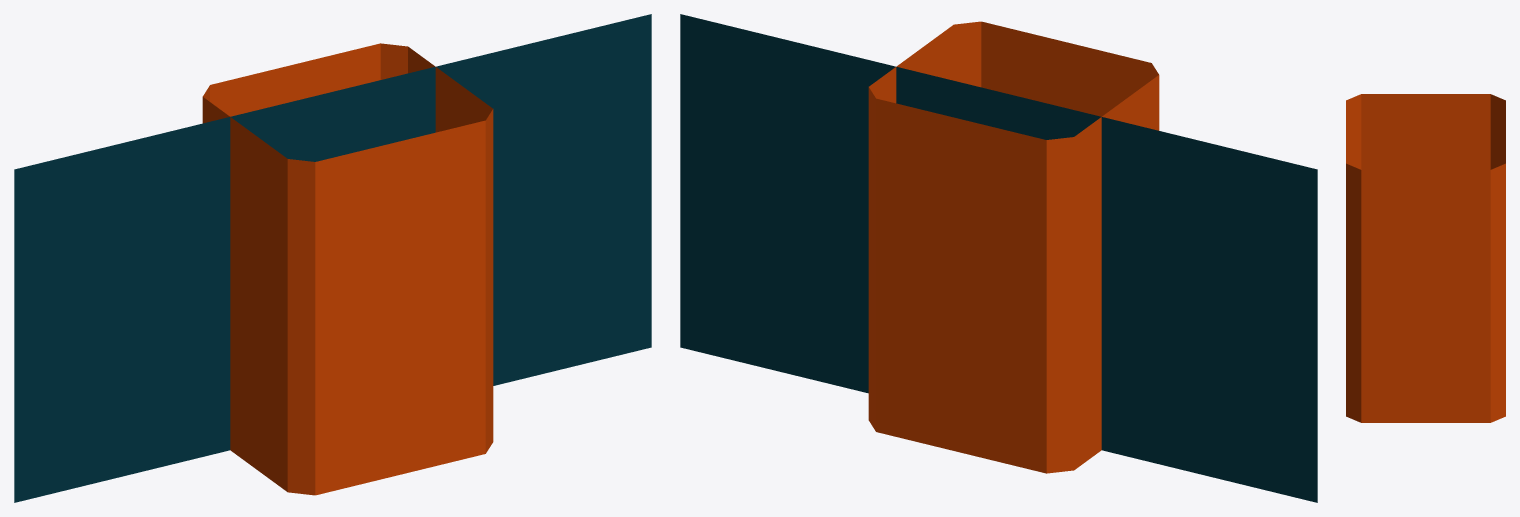
File: MB_Straight_Pillar_Side.fbx
3 views of the same model, side by side, from view 1: azimuth 30°, elevation 25°; view 2: azimuth 150°, elevation 25°; view 3: azimuth 270°, elevation 25° (orthographic). The views are drawn at different scales.
Parts seen in each view (by area): view 1: MB_Straight_Pillar_Side; view 2: MB_Straight_Pillar_Side; view 3: MB_Straight_Pillar_Side.
Boxes of the visible parts, <box> form: MB_Straight_Pillar_Side: <box>14,14,651,502</box>; MB_Straight_Pillar_Side: <box>680,14,1317,502</box>; MB_Straight_Pillar_Side: <box>1346,94,1505,422</box>.
Bounding box in the file's own units: 400 × 200 × 114.
